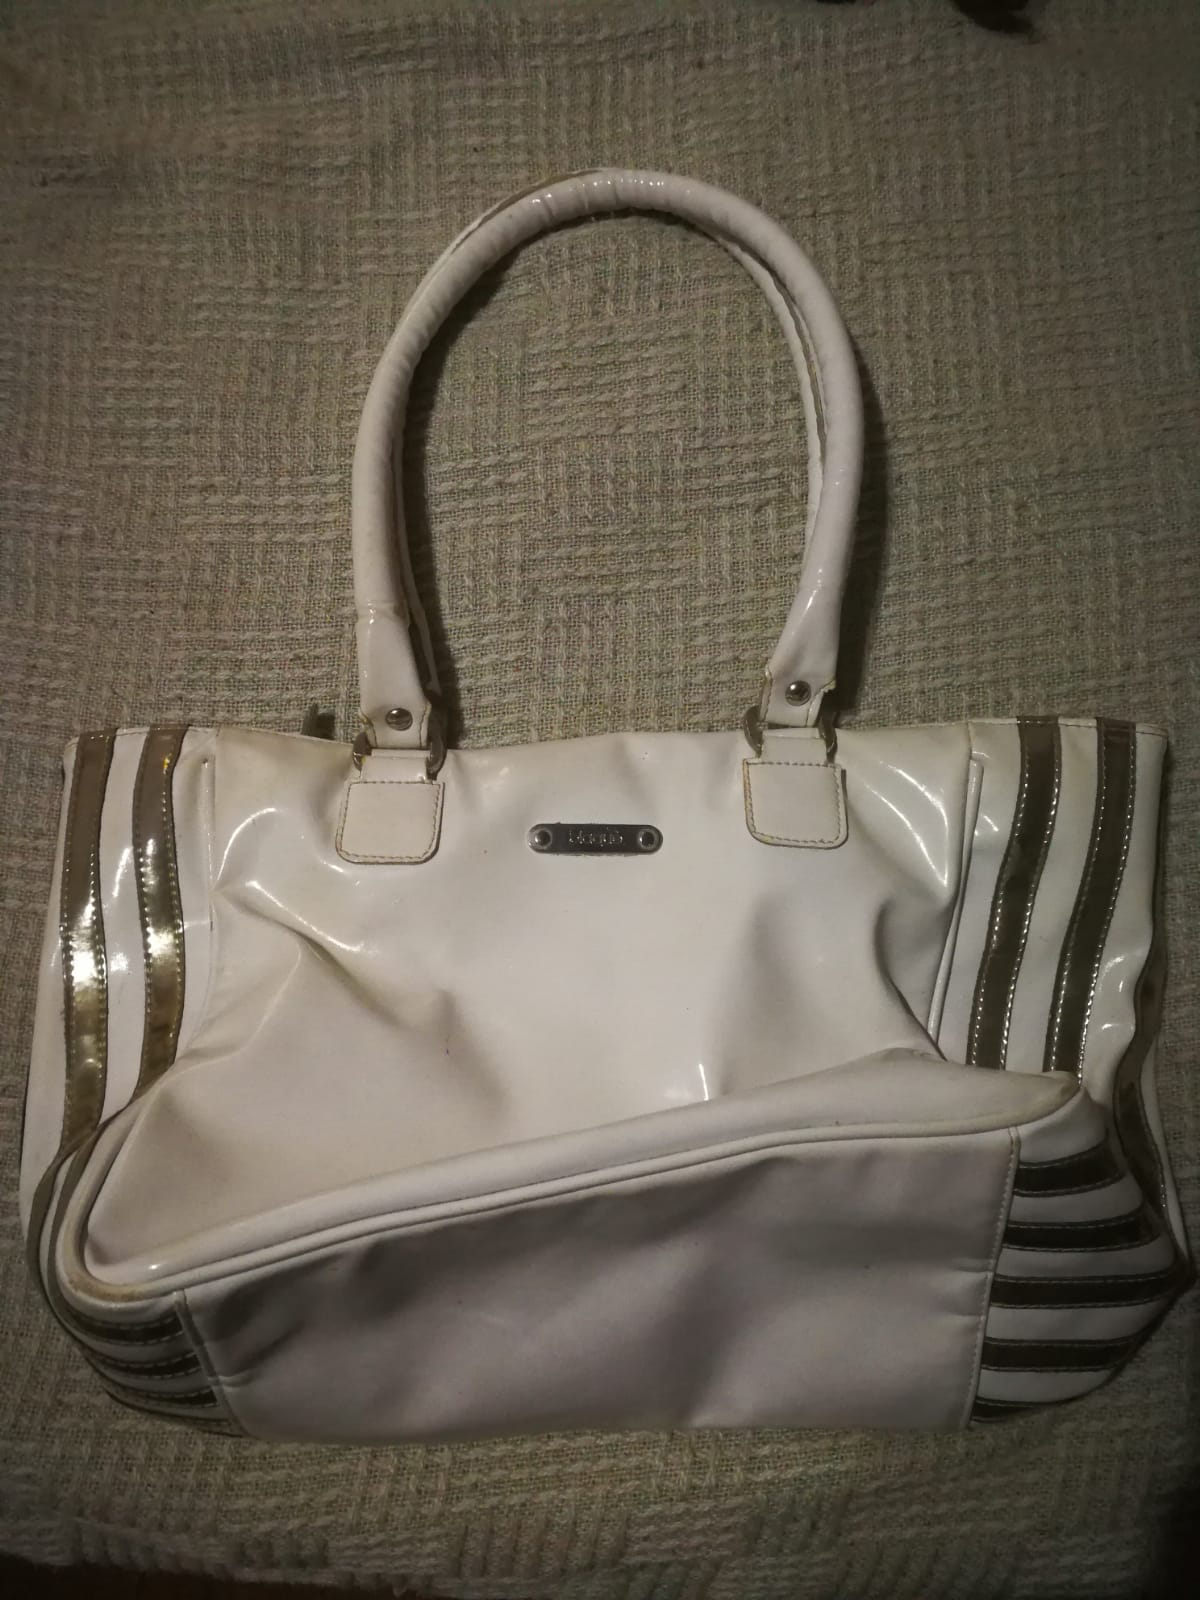cartera: (54, 226, 1200, 1430)
cuero: (367, 931, 837, 1191)
